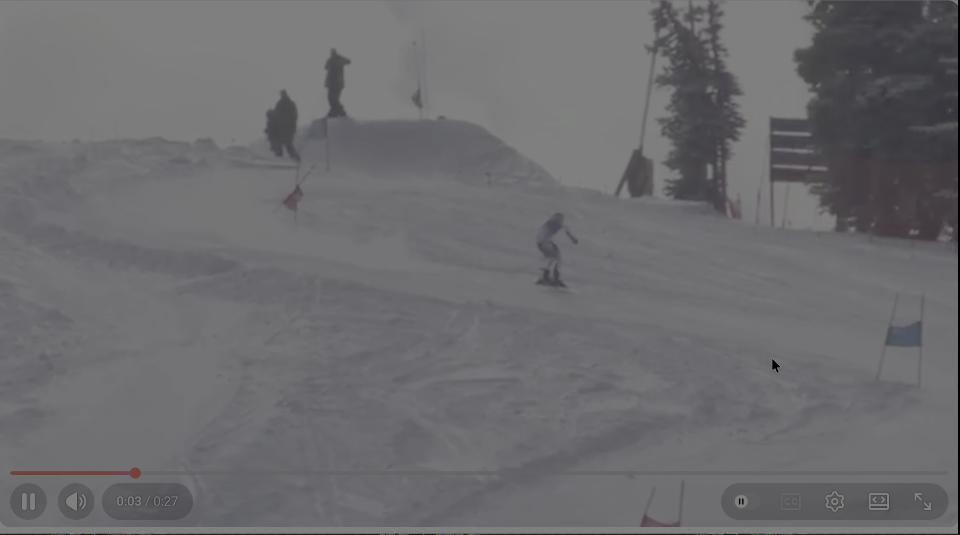gate: (869, 277, 904, 417), (916, 284, 927, 407)
